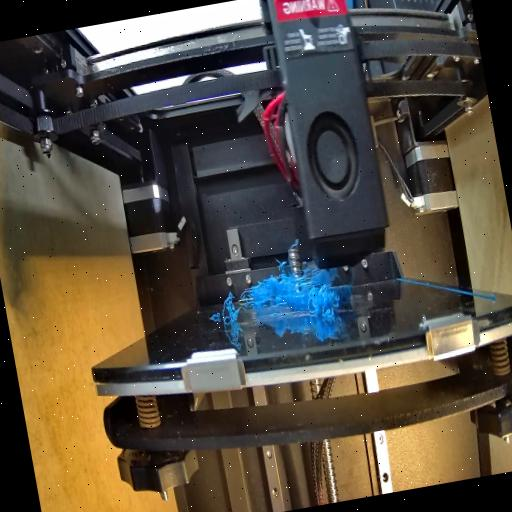spaghetti: (246, 268, 334, 304), (306, 285, 343, 327), (216, 289, 242, 329)
